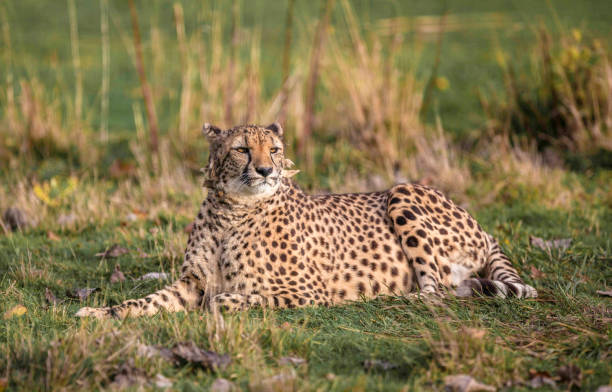cheetah: (191, 117, 308, 205)
